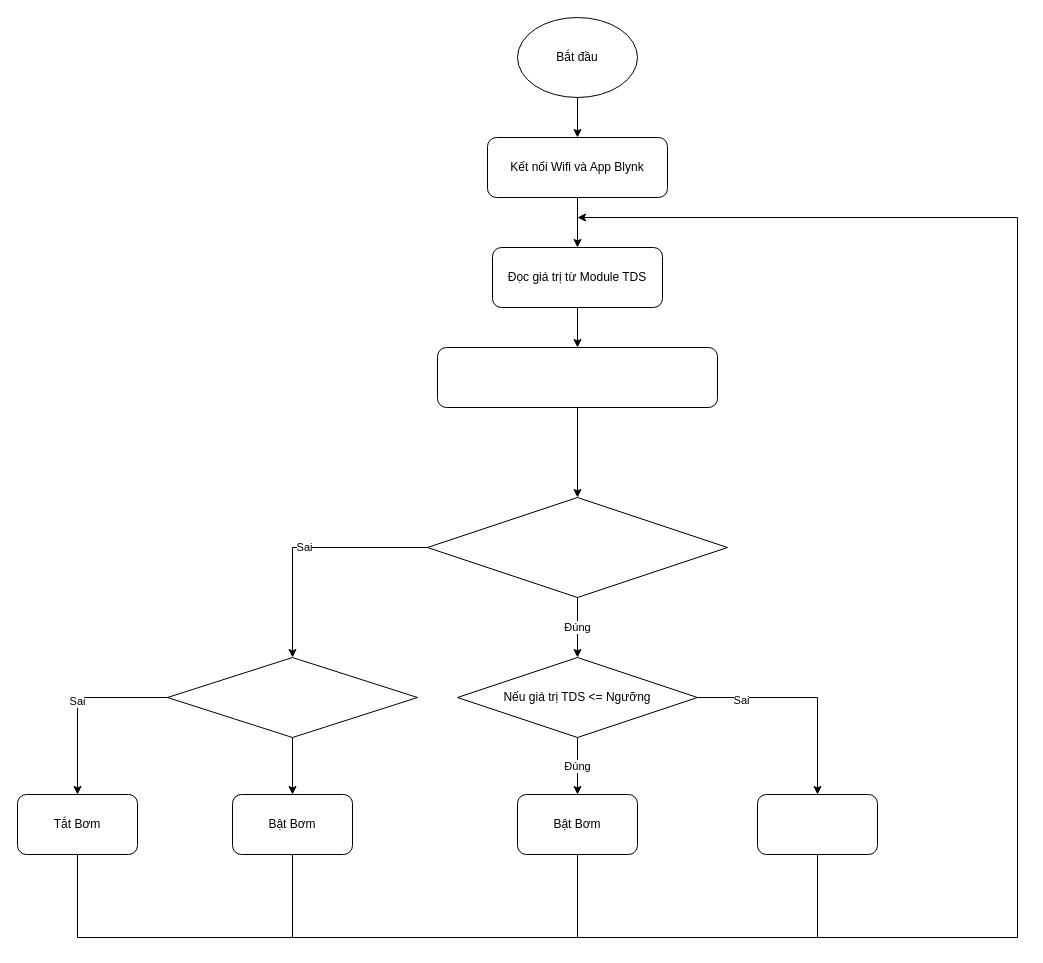
Some shapes in this 1043 by 963 pixel diagram are drawn without their labels. Here are the shapes that lost their labels. From the top down, the centre of each, then its label:
At [577,377]: "Hiển thị gia trị TDS lên LCD và App điện thoại".
At [577,547]: "Nếu hệ thống đang ở chế độ tự động".
At [292,697]: "Nếu giá trị app gửi về là 1".
At [817,824]: "Tắt Bơm Thông báo lên điện thoại".
